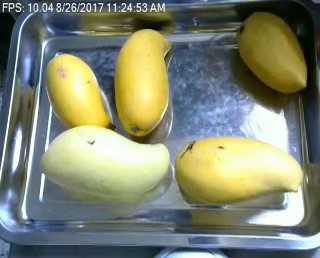Mango: (40, 125, 169, 197), (175, 138, 302, 203), (114, 29, 169, 136), (236, 13, 308, 94), (47, 52, 110, 126)
